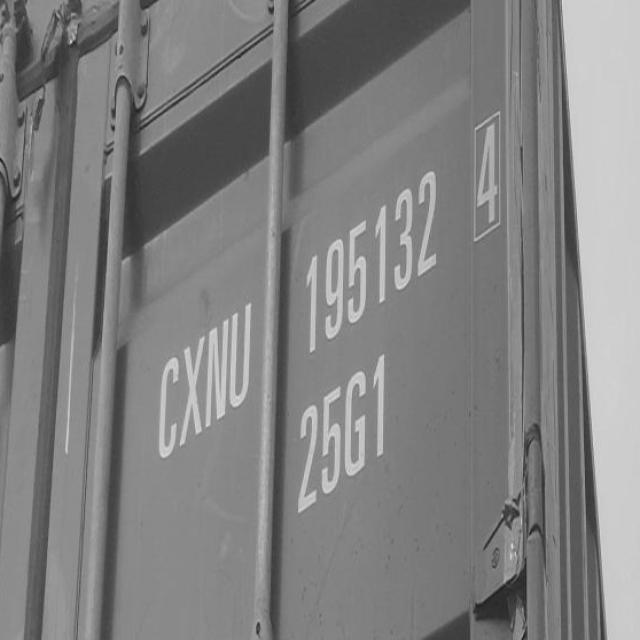dv: (463, 104, 520, 261)
owner: (128, 295, 259, 460)
serial: (299, 156, 446, 360)
size: (288, 355, 398, 523)
